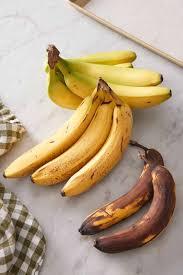banana: (5, 99, 134, 198), (87, 147, 175, 258), (39, 37, 172, 108)
